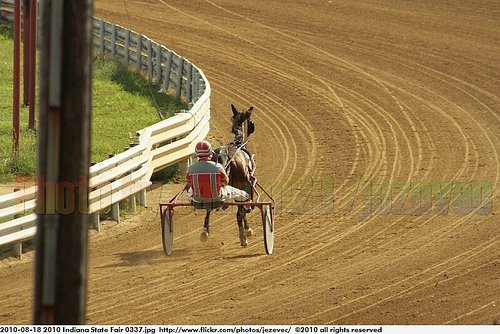horse: (196, 102, 259, 248)
